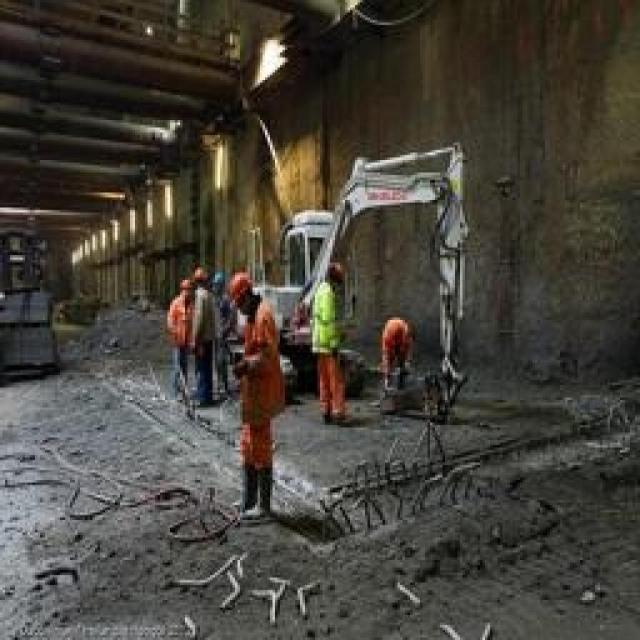Helmet: (243, 298, 290, 434), (304, 276, 344, 366), (182, 280, 215, 363), (208, 287, 236, 376), (220, 270, 267, 316), (160, 290, 192, 356), (317, 254, 353, 296), (378, 302, 418, 336), (206, 263, 234, 303), (168, 266, 192, 306), (186, 258, 214, 292), (379, 327, 406, 360)
